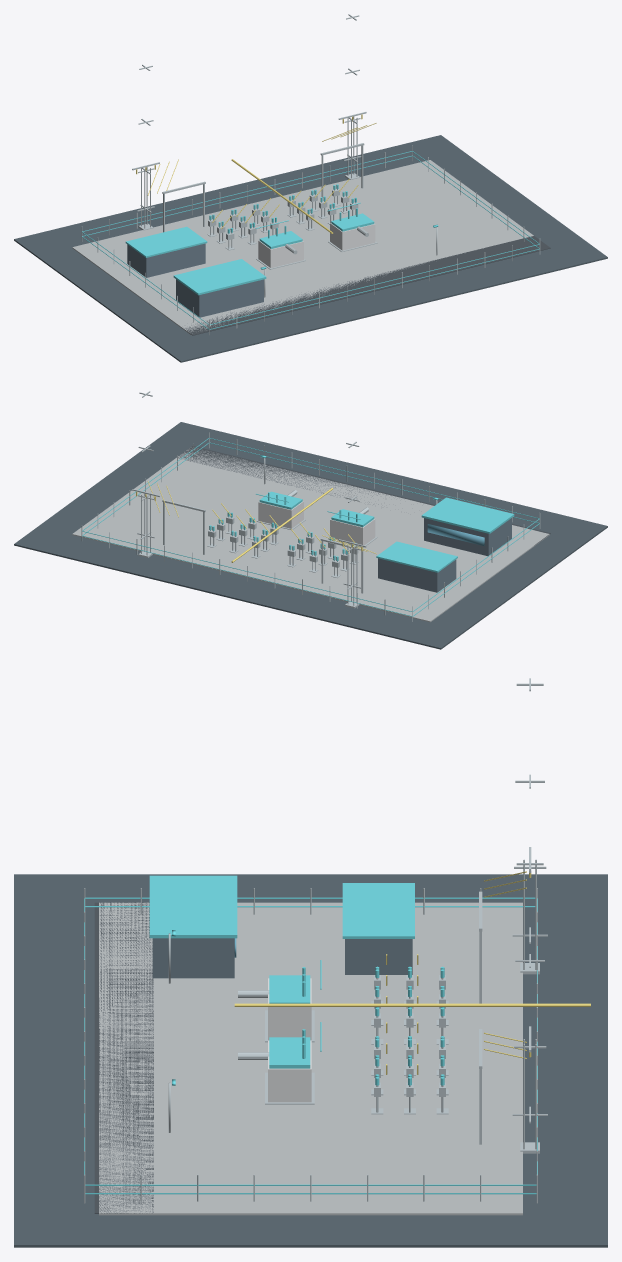
File: large_substation_iot_web.glb
The picture shows the model from 3 angles, top to bottom: view 1: azimuth 30°, elevation 25°; view 2: azimuth 150°, elevation 25°; view 3: azimuth 270°, elevation 25°; orthographic projection. The views are drawn at different scales.
Parts seen in each view (by area): view 1: GroundPlane, ConcretePad, AccessRoad, ControlBuilding, BuildingRoof, GISHall, GISRoof, MainTransformer_1_Body, MainTransformer_2_Body, MainTransformer_1_Lid, MainTransformer_2_Lid; view 2: ConcretePad, GroundPlane, AccessRoad, BuildingRoof, GISHall, ControlBuilding, GISRoof, MainTransformer_1_Body, MainTransformer_2_Body, BuildingWindows, MainTransformer_2_Lid, MainTransformer_1_Lid (+3 smaller); view 3: ConcretePad, GroundPlane, AccessRoad, BuildingRoof, GISRoof, ControlBuilding, GISHall, MainTransformer_2_Body, MainTransformer_1_Body, MainTransformer_2_Lid, Busbar_1, MainTransformer_1_Lid (+2 smaller).
Boxes of the visible parts, left/top/right/bottom form: GroundPlane: left=14, top=135, right=607, bottom=362; ConcretePad: left=72, top=160, right=533, bottom=335; AccessRoad: left=184, top=236, right=550, bottom=335; ControlBuilding: left=176, top=279, right=263, bottom=317; BuildingRoof: left=173, top=259, right=266, bottom=295; GISHall: left=127, top=243, right=205, bottom=277; GISRoof: left=125, top=226, right=207, bottom=257; MainTransformer_1_Body: left=258, top=240, right=303, bottom=267; MainTransformer_2_Body: left=330, top=223, right=375, bottom=250; MainTransformer_1_Lid: left=259, top=231, right=302, bottom=248; MainTransformer_2_Lid: left=331, top=213, right=374, bottom=231; ConcretePad: left=72, top=447, right=549, bottom=622; GroundPlane: left=14, top=422, right=607, bottom=649; AccessRoad: left=178, top=446, right=550, bottom=545; BuildingRoof: left=421, top=497, right=514, bottom=533; GISHall: left=378, top=558, right=456, bottom=592; ControlBuilding: left=424, top=518, right=511, bottom=556; GISRoof: left=376, top=541, right=457, bottom=572; MainTransformer_1_Body: left=330, top=518, right=375, bottom=545; MainTransformer_2_Body: left=258, top=501, right=303, bottom=528; BuildingWindows: left=427, top=524, right=484, bottom=545; MainTransformer_2_Lid: left=259, top=491, right=302, bottom=509; MainTransformer_1_Lid: left=331, top=509, right=374, bottom=527; ConcretePad: left=99, top=902, right=522, bottom=1215; GroundPlane: left=14, top=874, right=607, bottom=1247; AccessRoad: left=94, top=902, right=153, bottom=1213; BuildingRoof: left=149, top=875, right=237, bottom=938; GISRoof: left=342, top=883, right=414, bottom=938; ControlBuilding: left=152, top=938, right=234, bottom=978; GISHall: left=345, top=939, right=412, bottom=974; MainTransformer_2_Body: left=268, top=1040, right=311, bottom=1102; MainTransformer_1_Body: left=268, top=978, right=311, bottom=1040; MainTransformer_2_Lid: left=269, top=1037, right=310, bottom=1068; Busbar_1: left=234, top=1003, right=559, bottom=1006; MainTransformer_1_Lid: left=269, top=975, right=310, bottom=1003.
Bounding box in the file's own units: 62 × 22.52 × 42.
